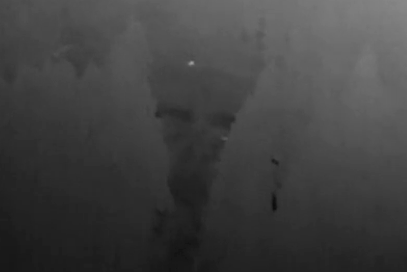Target: (190, 62, 194, 65)
